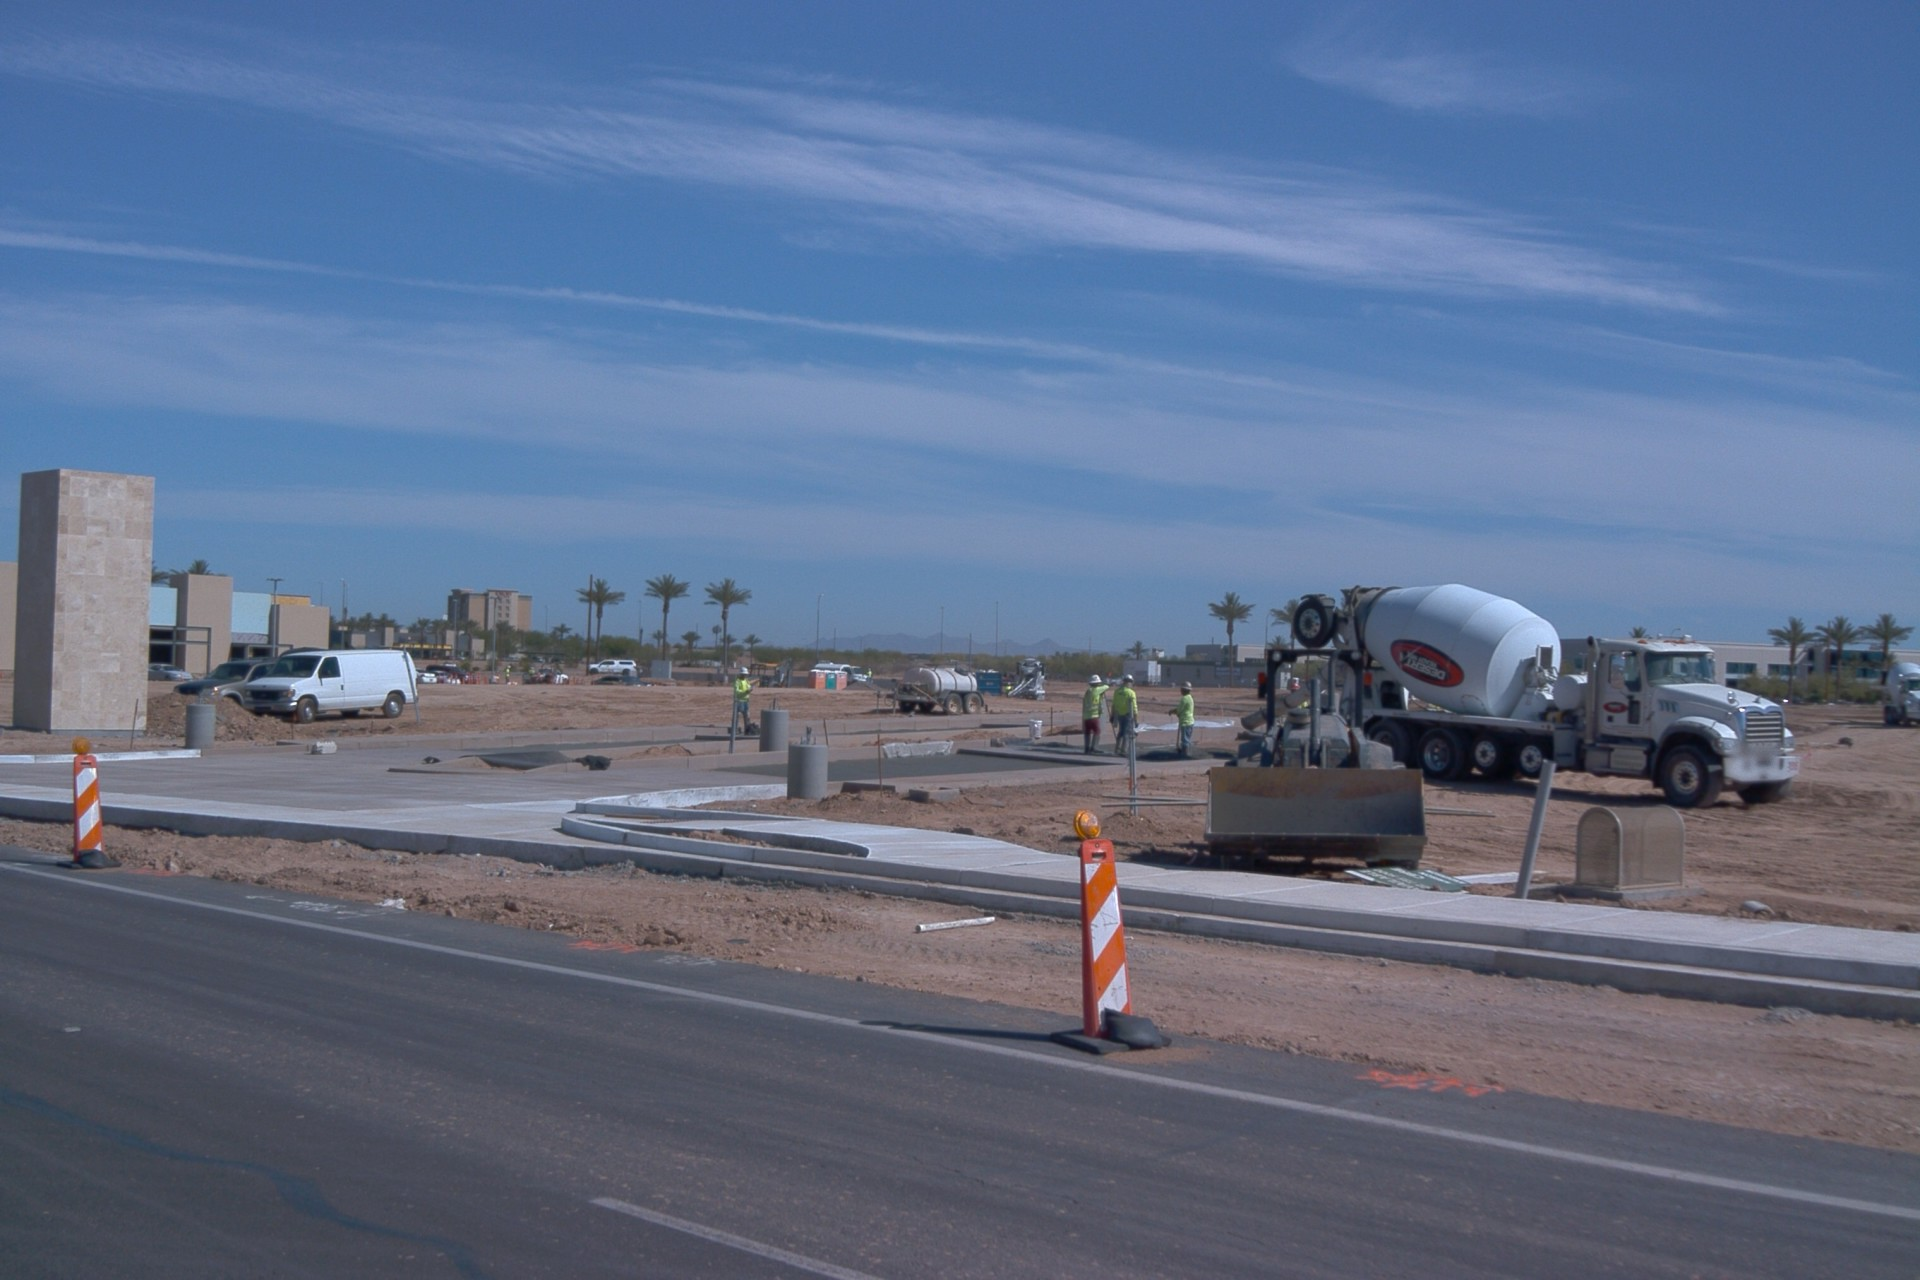TYPE_PEDESTRIAN: (1078, 671, 1111, 755), (1109, 674, 1141, 759), (1168, 682, 1197, 763), (730, 667, 754, 736), (1287, 681, 1311, 714), (502, 661, 515, 685), (1002, 681, 1014, 699), (528, 663, 536, 675)
TYPE_VEHICLE: (1240, 584, 1804, 813), (1200, 636, 1429, 879), (246, 650, 422, 726), (172, 658, 279, 715), (875, 662, 985, 716), (1879, 663, 1920, 729), (1005, 658, 1049, 705), (738, 656, 796, 690), (813, 662, 869, 685), (423, 664, 472, 683), (525, 668, 573, 687), (589, 659, 639, 676), (147, 666, 196, 683), (592, 677, 649, 688), (417, 673, 437, 687), (1102, 679, 1124, 689)
